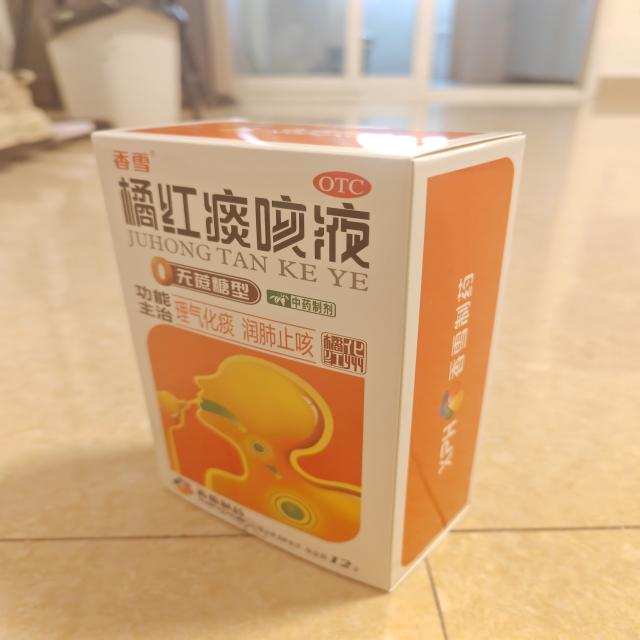box: (80, 112, 531, 597)
